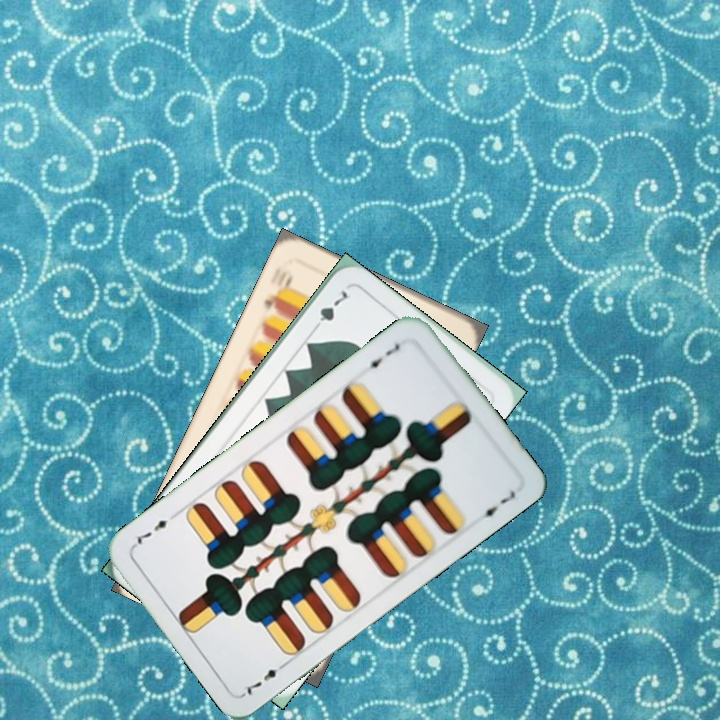E10: (260, 270, 296, 316)
E7: (240, 657, 291, 699), (359, 339, 403, 373)
G7: (308, 285, 350, 335)
